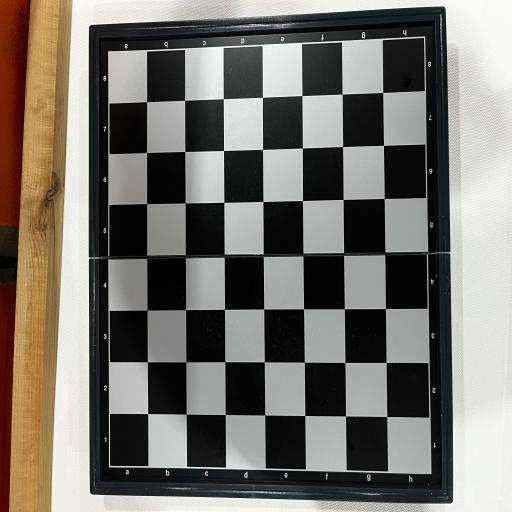Board: (88, 5, 454, 504)
